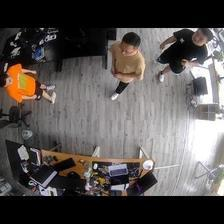normal: (156, 29, 211, 83), (1, 63, 60, 106), (107, 34, 144, 101)
